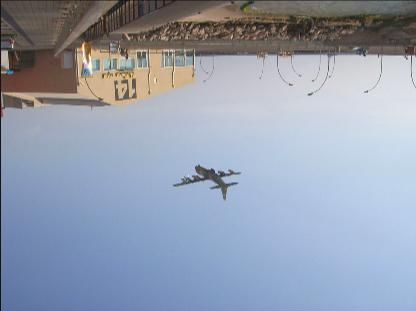Be200: (172, 164, 242, 200)
